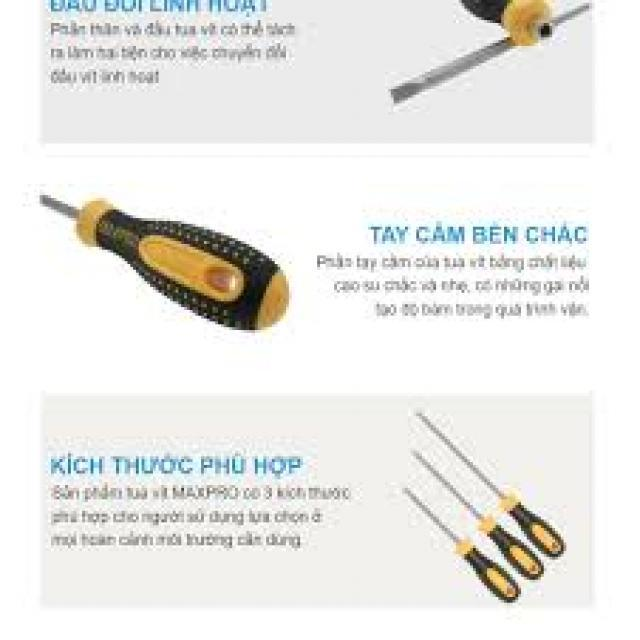screwdriver: (414, 408, 566, 560), (405, 444, 547, 582), (400, 486, 522, 607)
